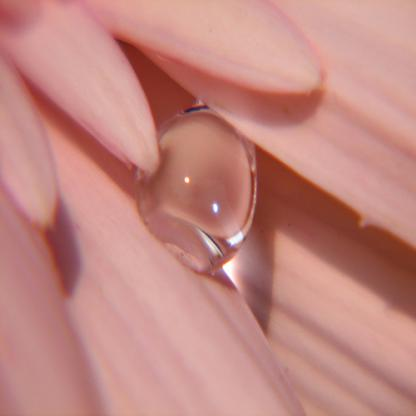ASTER: (9, 7, 409, 408)
